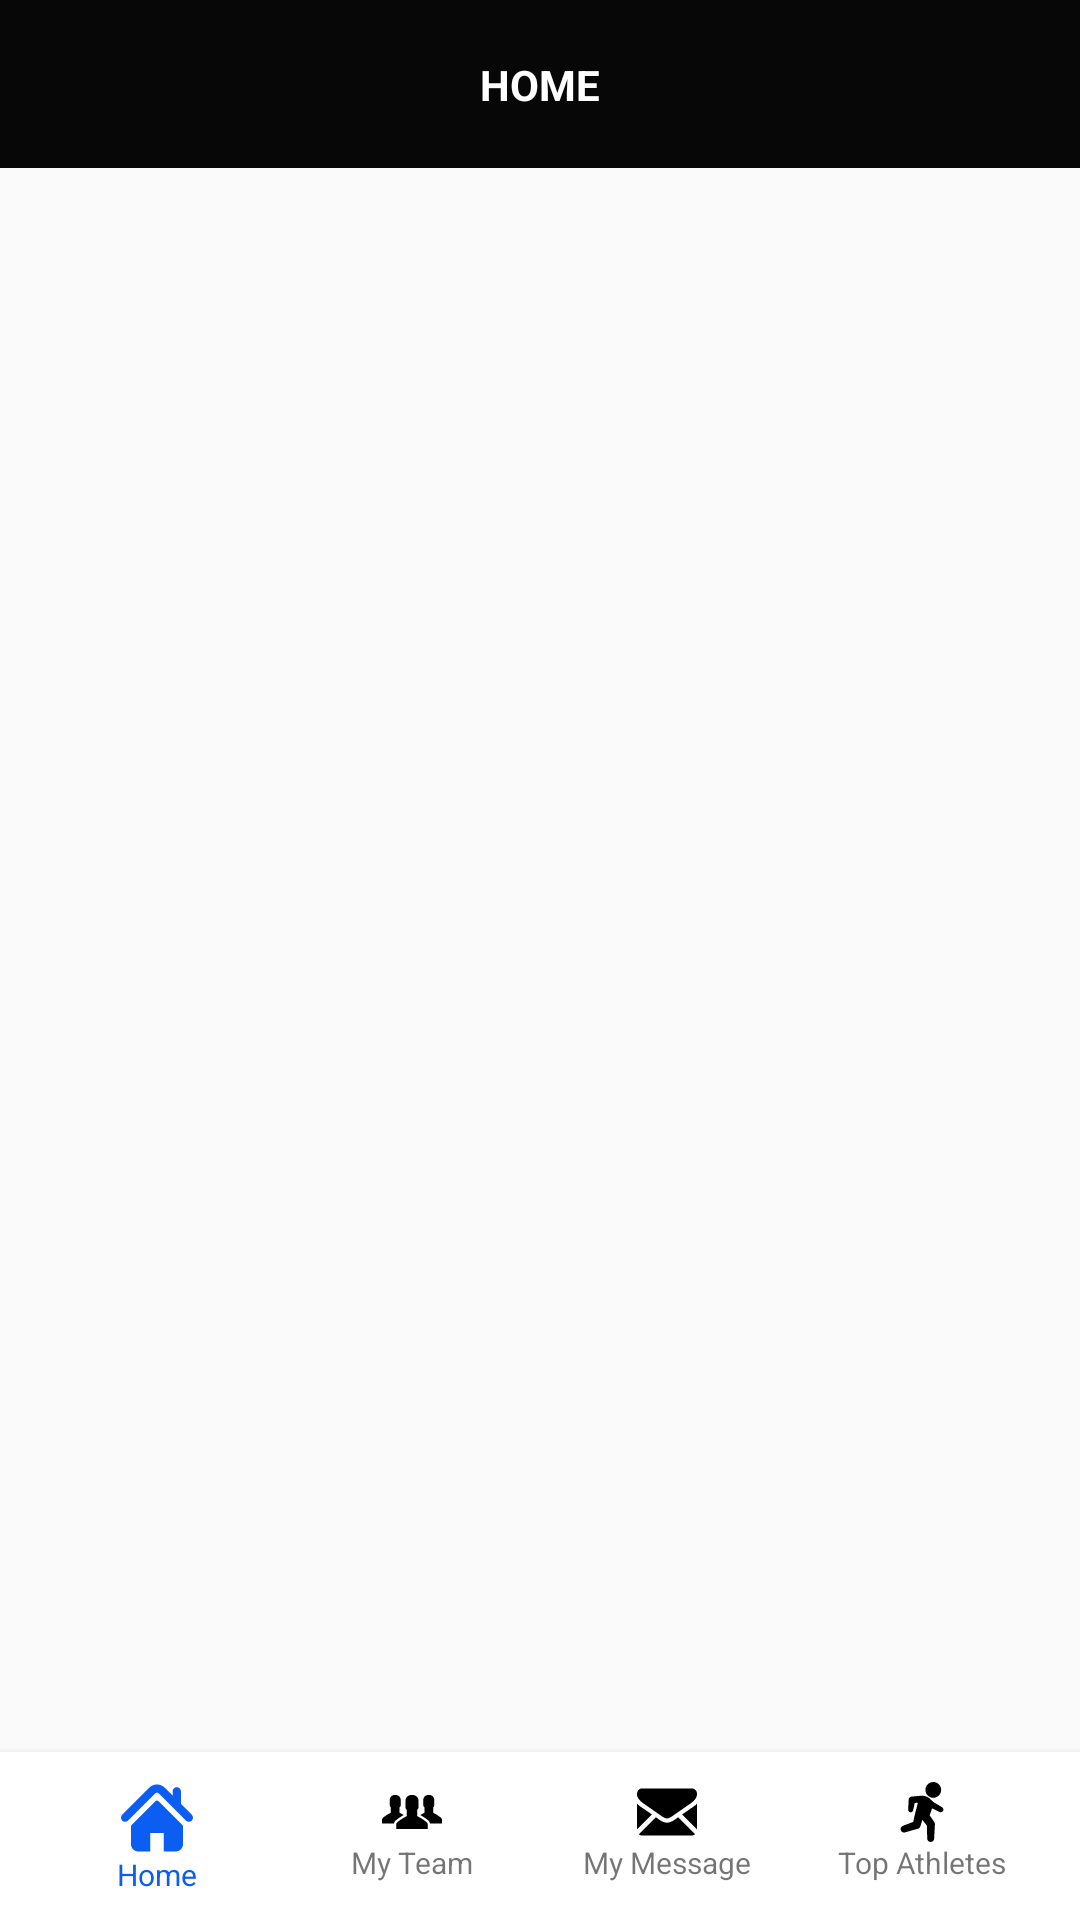

Icons on this 1080px×1920px Android screen, each with its box as bbox(x1, y1, x2, y2):
marathon: bbox(900, 1782, 944, 1842)
